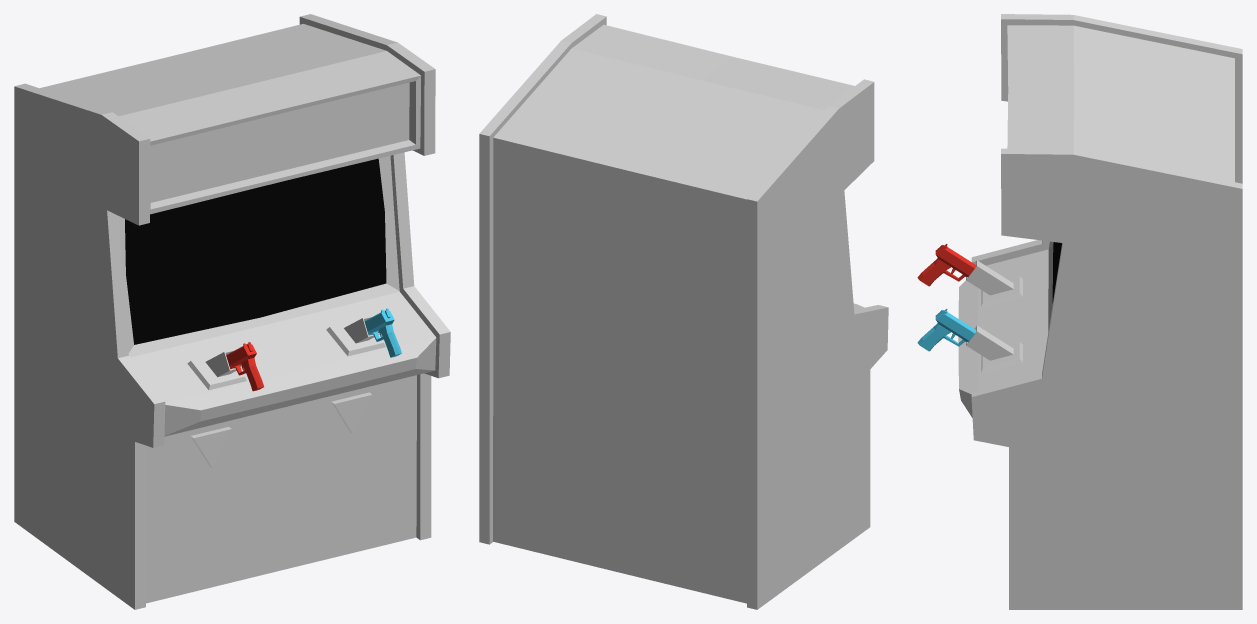
File: Arcade Shooter.fbx
3 views of the same model, side by side, from view 1: azimuth 30°, elevation 25°; view 2: azimuth 150°, elevation 25°; view 3: azimuth 270°, elevation 25° (orthographic). The views are drawn at different scales.
Parts seen in each view (by area): view 1: arcade_shooter_lp, arcade_shooter_lp_screen, arcade_shooter_lp_hg1, arcade_shooter_lp_hg2; view 2: arcade_shooter_lp; view 3: arcade_shooter_lp, arcade_shooter_lp_hg2, arcade_shooter_lp_hg1.
Boxes of the visible parts, <box> form: arcade_shooter_lp: <box>14,14,450,609</box>; arcade_shooter_lp_screen: <box>125,158,386,344</box>; arcade_shooter_lp_hg1: <box>226,342,263,391</box>; arcade_shooter_lp_hg2: <box>364,308,401,357</box>; arcade_shooter_lp: <box>479,14,888,609</box>; arcade_shooter_lp: <box>958,14,1242,609</box>; arcade_shooter_lp_hg2: <box>917,309,976,351</box>; arcade_shooter_lp_hg1: <box>917,244,976,286</box>.
Bounding box in the file's own units: 118 × 179 × 116.
